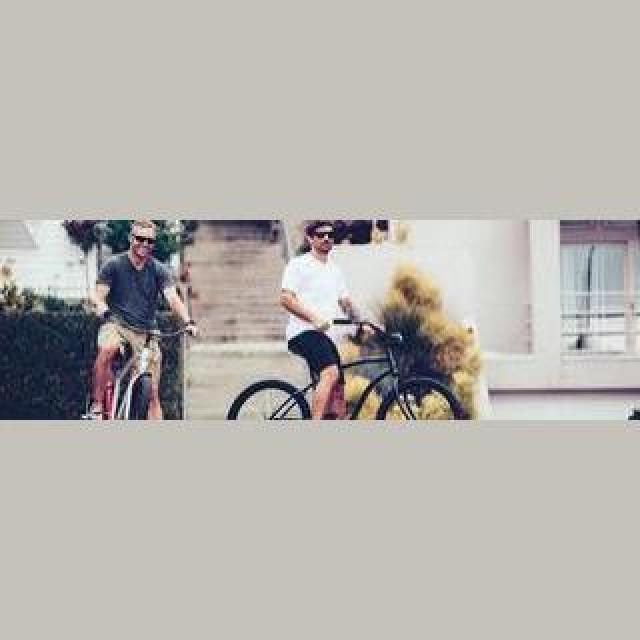MC-Bike: (88, 220, 190, 416), (278, 220, 364, 412)
Person: (229, 307, 475, 419), (85, 299, 199, 419)
